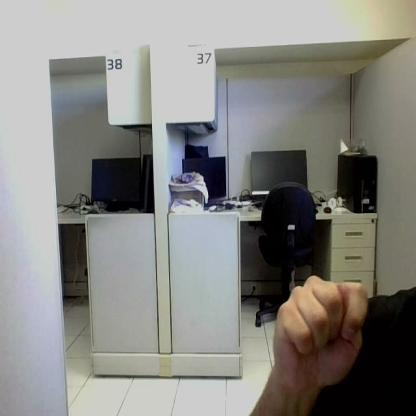T: (275, 276, 367, 388)
